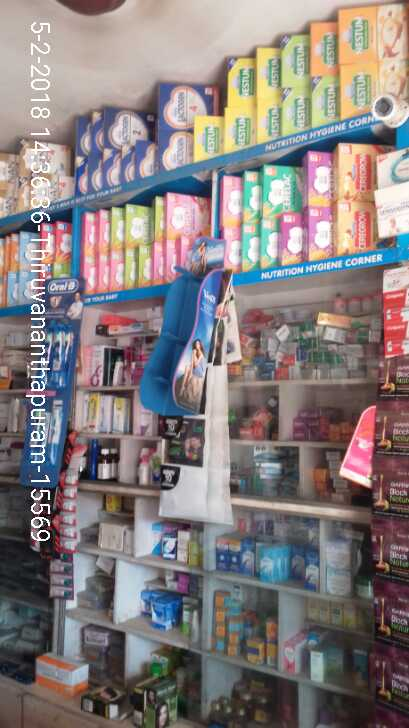reject: (139, 297, 237, 368)
